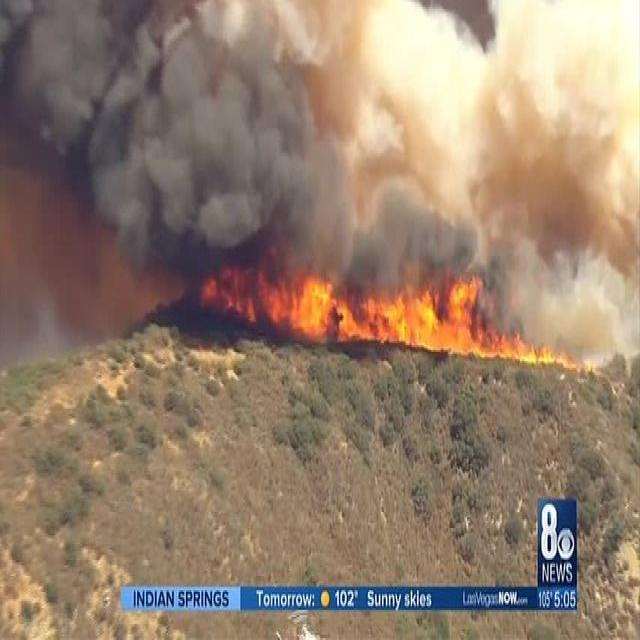Fire: (197, 250, 590, 374)
Smoke: (336, 0, 640, 361), (0, 0, 357, 306)
